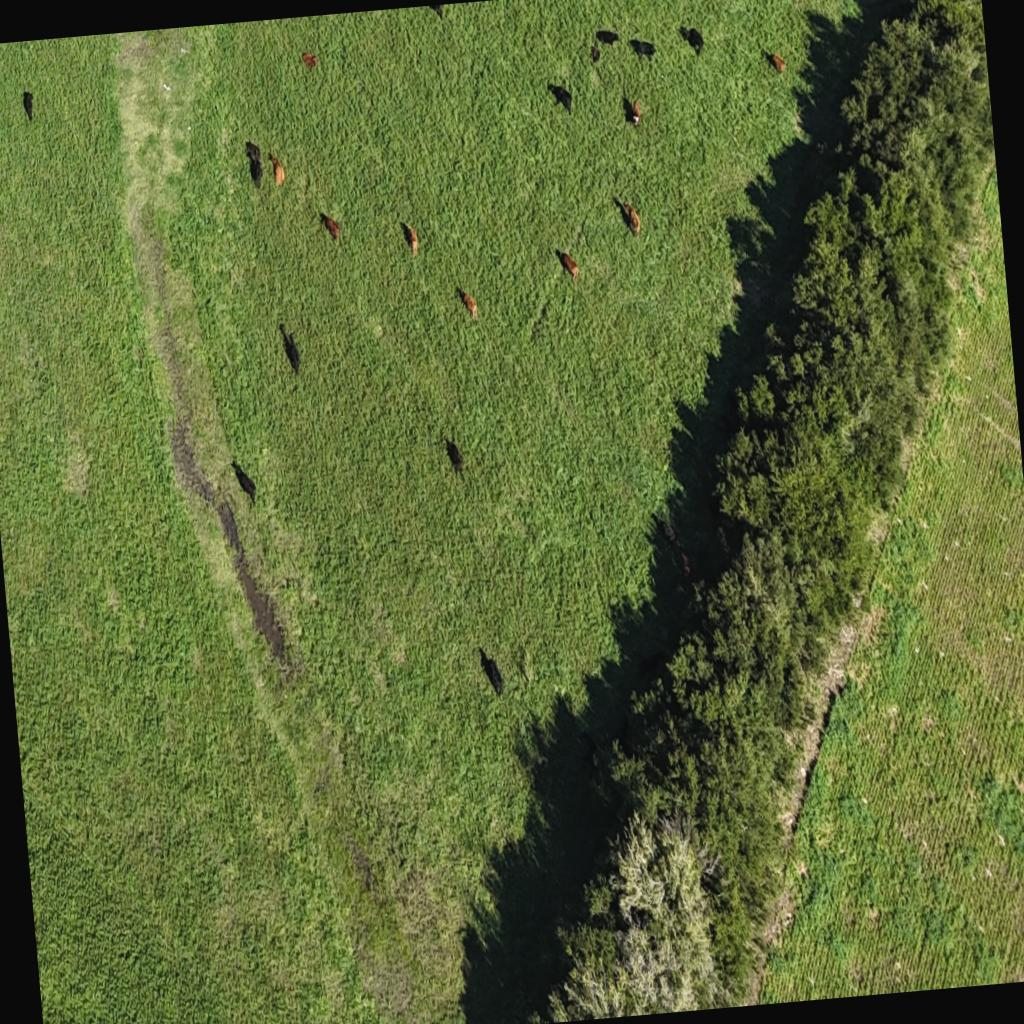cow: (659, 518, 691, 580), (478, 646, 504, 698), (231, 457, 258, 507), (280, 324, 302, 376), (244, 137, 264, 188), (548, 80, 574, 116), (456, 284, 478, 322), (445, 438, 465, 474), (558, 250, 579, 284), (320, 212, 340, 246), (588, 40, 606, 74), (626, 202, 642, 236), (768, 50, 788, 76), (271, 153, 286, 187), (626, 98, 643, 127), (595, 28, 619, 48), (405, 222, 419, 256), (21, 90, 35, 122), (688, 26, 704, 54), (629, 37, 647, 60), (678, 24, 691, 44)
